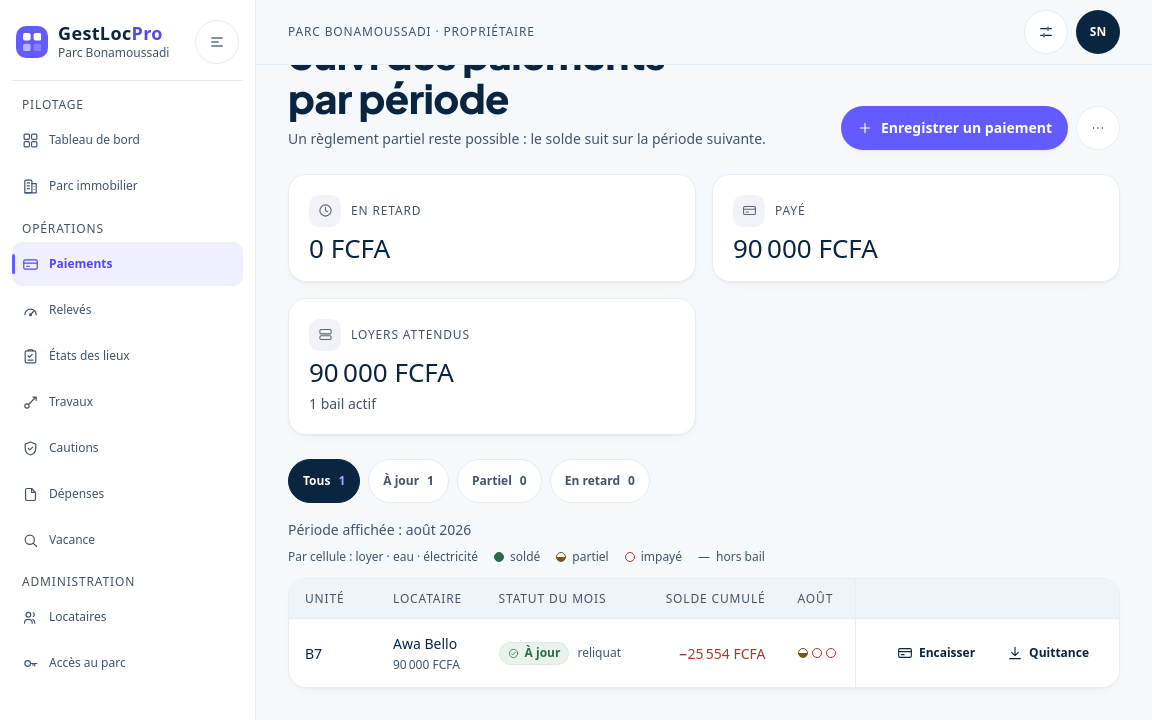
Test: la quittance du gestionnaire › garde l’impression à côté du téléchargement
This screenshot has width=1152, height=720.
(page scrolled)
Click the button with aria-label "Quittance — " at {"x": 1048, "y": 654}, box [993, 632, 1103, 676]
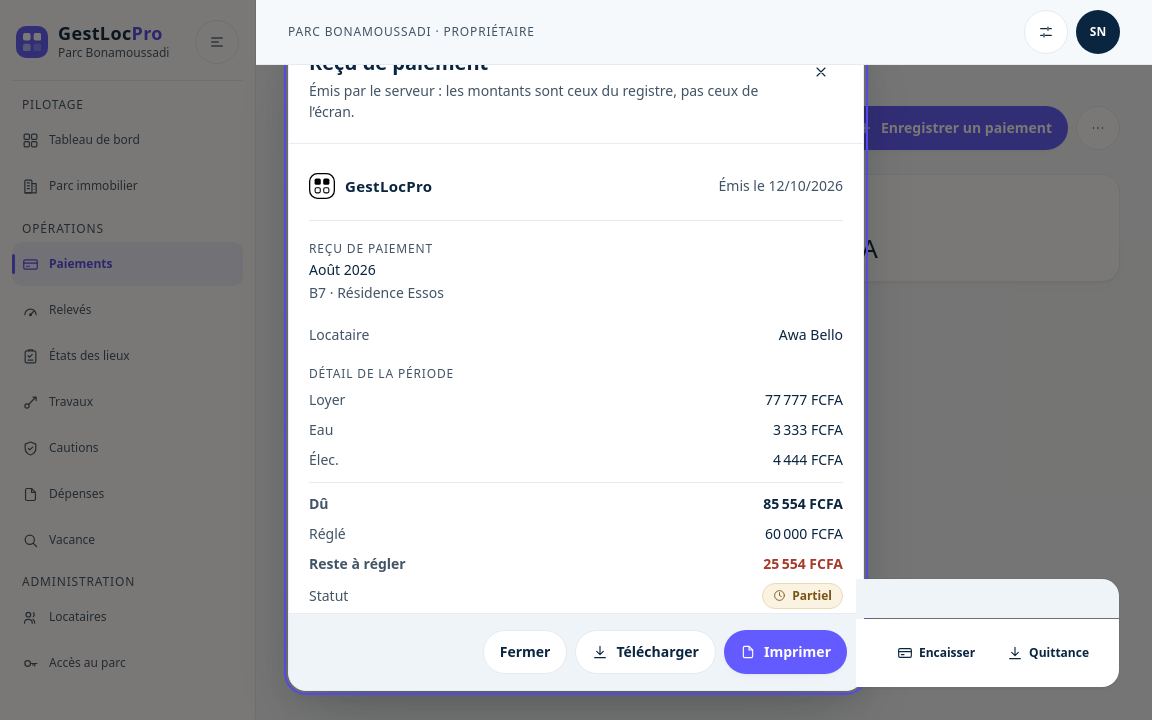
expect the button "Télécharger" is shown: met, box [575, 630, 716, 674]
expect the button "Imprimer" is shown: met, box [724, 630, 847, 674]
